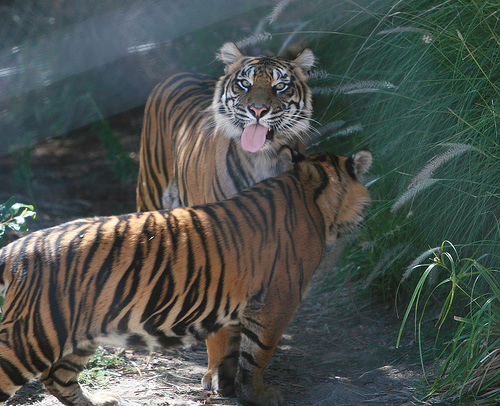Tigre: (9, 147, 381, 388), (137, 36, 309, 197)
